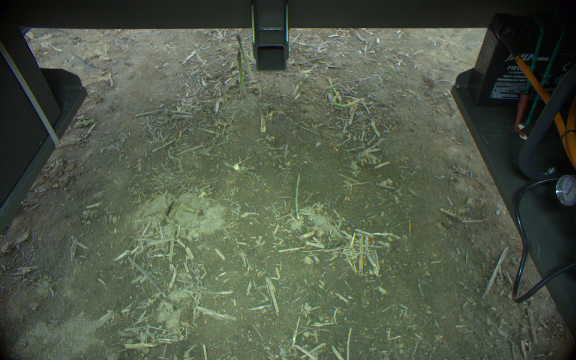aspa: (236, 33, 253, 81), (332, 93, 366, 110), (236, 48, 247, 98), (293, 170, 303, 221), (326, 76, 342, 102)
